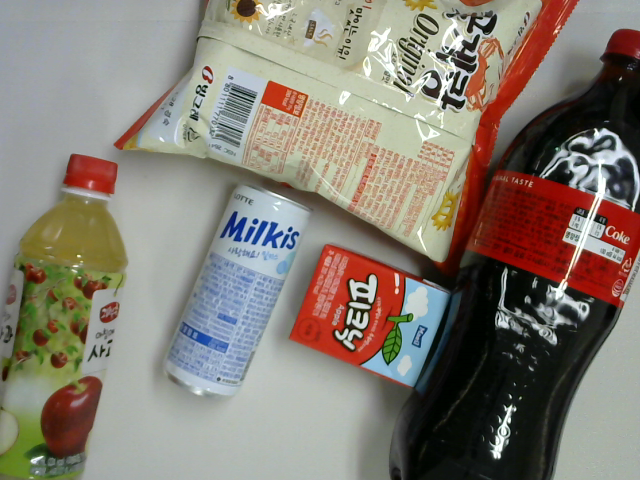Coca_Cola_1.5L: (389, 28, 639, 479)
Crabrang: (113, 1, 580, 276)
Milkies_250ml: (156, 181, 313, 399)
Morning_Apple_500ml: (1, 153, 128, 480)
Picnic_Apple: (287, 243, 453, 389)
